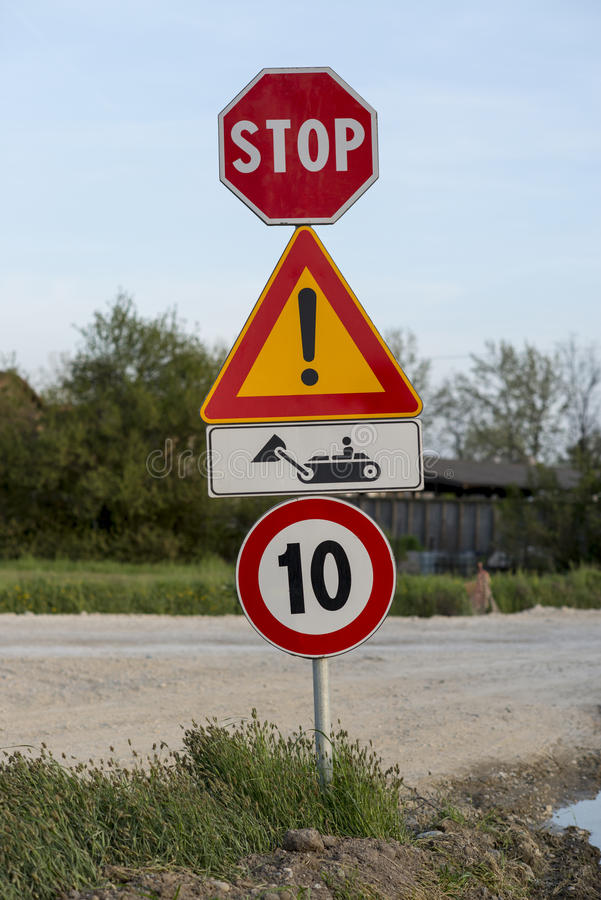caution: (202, 225, 427, 420)
stop: (218, 67, 380, 226)
